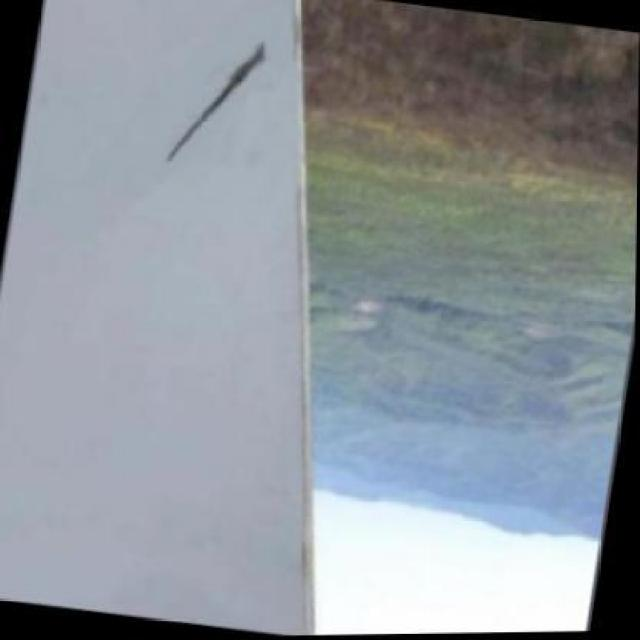Burn Mark: (167, 31, 270, 175)
